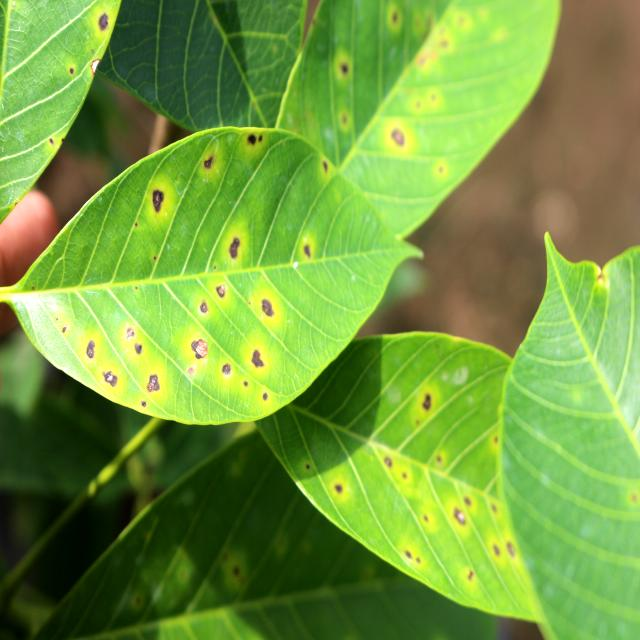Colletotrichum: (192, 338, 207, 359), (152, 189, 164, 213), (147, 374, 160, 392), (262, 298, 273, 318), (86, 340, 95, 358), (217, 284, 224, 298), (199, 302, 208, 312), (222, 363, 230, 374)
